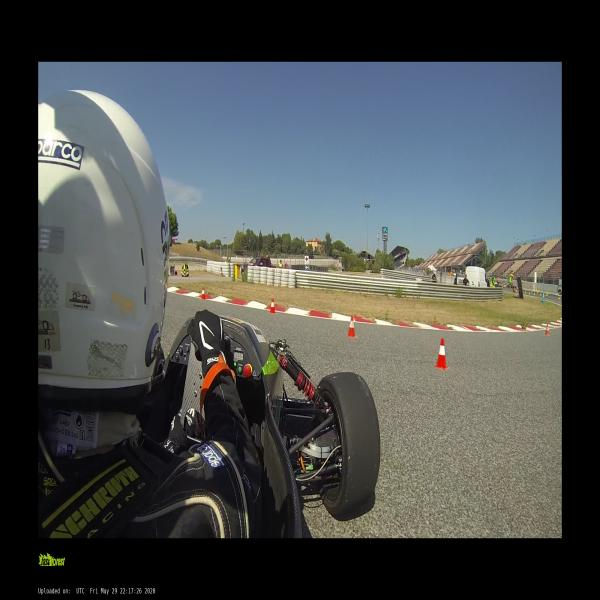orange_cone: (434, 339, 449, 370), (346, 316, 356, 338), (269, 298, 276, 314), (201, 287, 206, 300), (545, 323, 549, 335)
unknown_cone: (542, 290, 545, 302)
